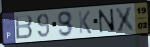9: (57, 10, 75, 38), (35, 12, 50, 39)
B: (14, 13, 34, 41)
K: (77, 10, 93, 35)
N: (97, 8, 117, 34)
X: (114, 5, 138, 34)
